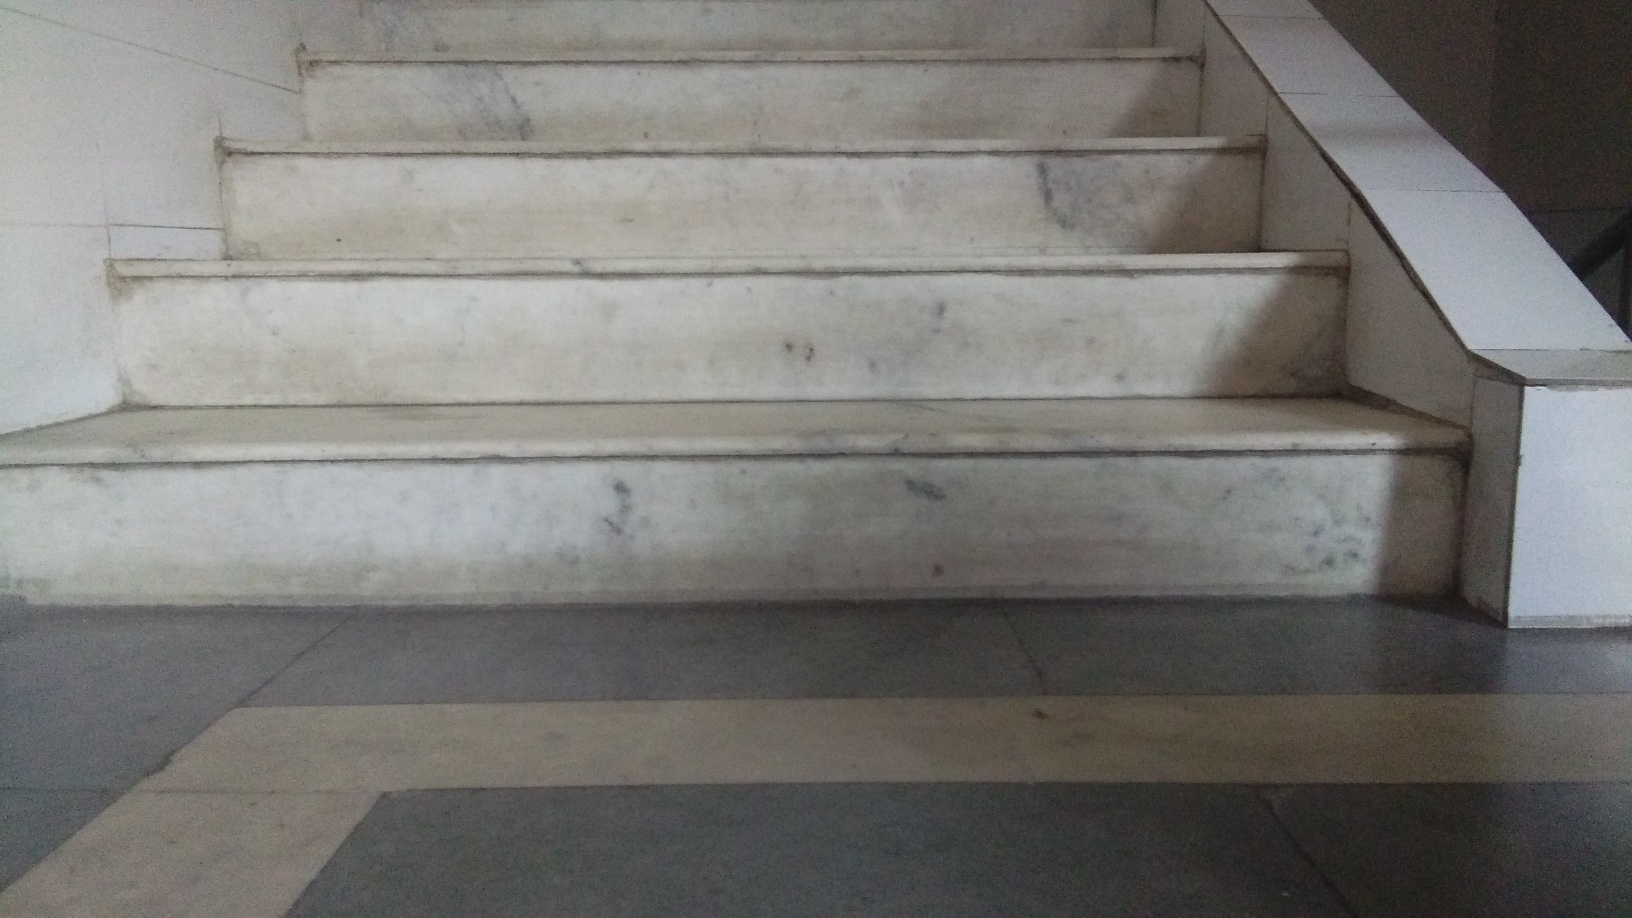stairs_up: (7, 29, 1489, 639)
